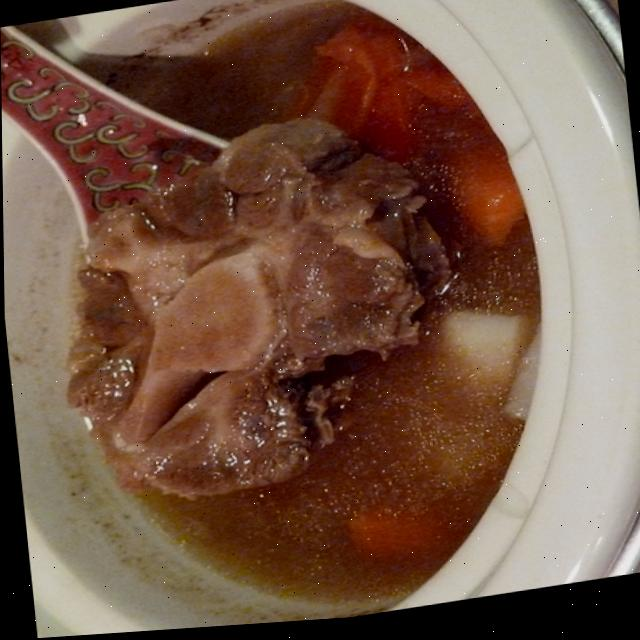汤锅炖物: (0, 0, 627, 640)
